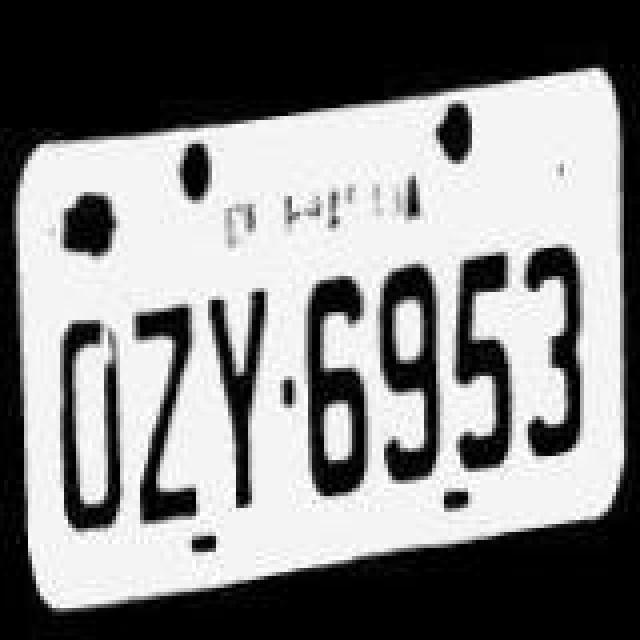3: (520, 212, 596, 472)
5: (446, 216, 526, 484)
6: (302, 250, 374, 510)
9: (378, 236, 442, 492)
O: (50, 296, 122, 556)
Y: (206, 256, 278, 524)
Z: (130, 286, 202, 550)
